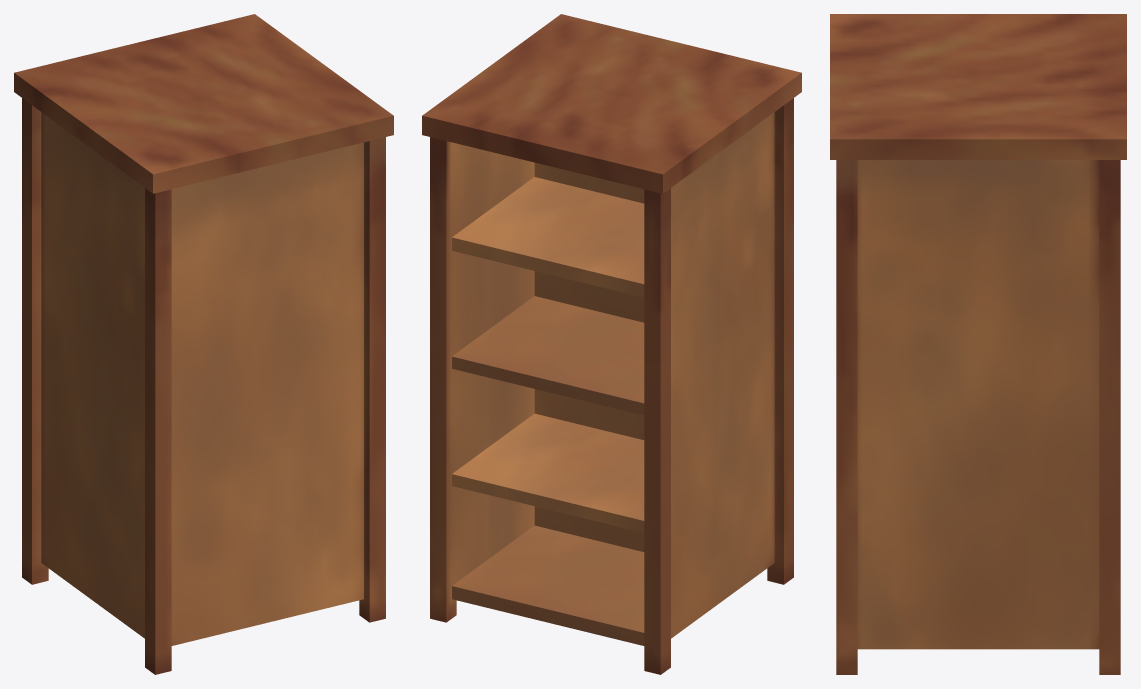
The model's file is Bookshelf.fbx.
3 views of the same model, side by side, from view 1: azimuth 30°, elevation 25°; view 2: azimuth 150°, elevation 25°; view 3: azimuth 270°, elevation 25° (orthographic). The views are drawn at different scales.
Parts seen in each view (by area): view 1: Cube; view 2: Cube; view 3: Cube.
Boxes of the visible parts, x1,y1,x2,y2 form: Cube: (14, 14, 393, 674); Cube: (422, 14, 801, 674); Cube: (830, 14, 1126, 674).
Size of the model in its own units: 100 by 200 by 100.
